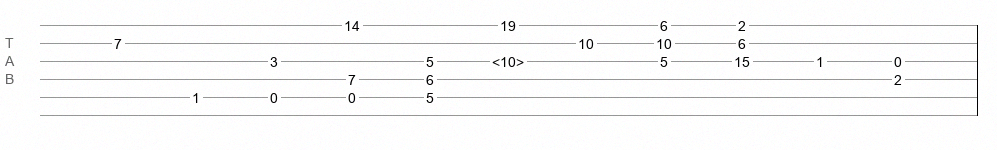0: (270, 90, 278, 100), (348, 90, 356, 100), (894, 54, 902, 64)
1: (192, 90, 200, 100), (816, 54, 824, 64)
10: (578, 36, 594, 46), (656, 36, 672, 46)
14: (344, 18, 360, 28)
15: (734, 54, 750, 64)
19: (500, 18, 516, 28)
2: (738, 18, 746, 28), (894, 72, 902, 82)
3: (270, 54, 278, 64)
5: (426, 54, 434, 64), (426, 90, 434, 100), (660, 54, 668, 64)
6: (426, 72, 434, 82), (660, 18, 668, 28), (738, 36, 746, 46)
7: (114, 36, 122, 46), (348, 72, 356, 82)
harmonic: (492, 54, 524, 64)
